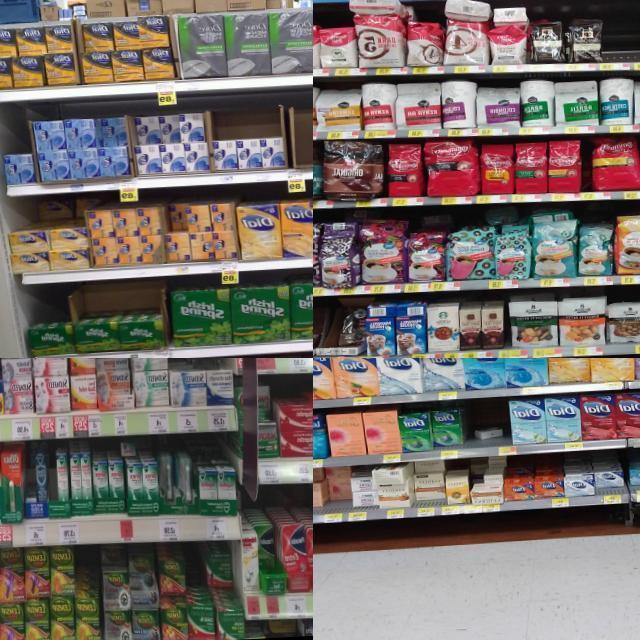Imprecise: (14, 195, 107, 276), (309, 292, 367, 362), (202, 541, 240, 638), (161, 201, 201, 267), (468, 450, 510, 506), (404, 460, 448, 508), (324, 464, 356, 514), (468, 418, 503, 442)
